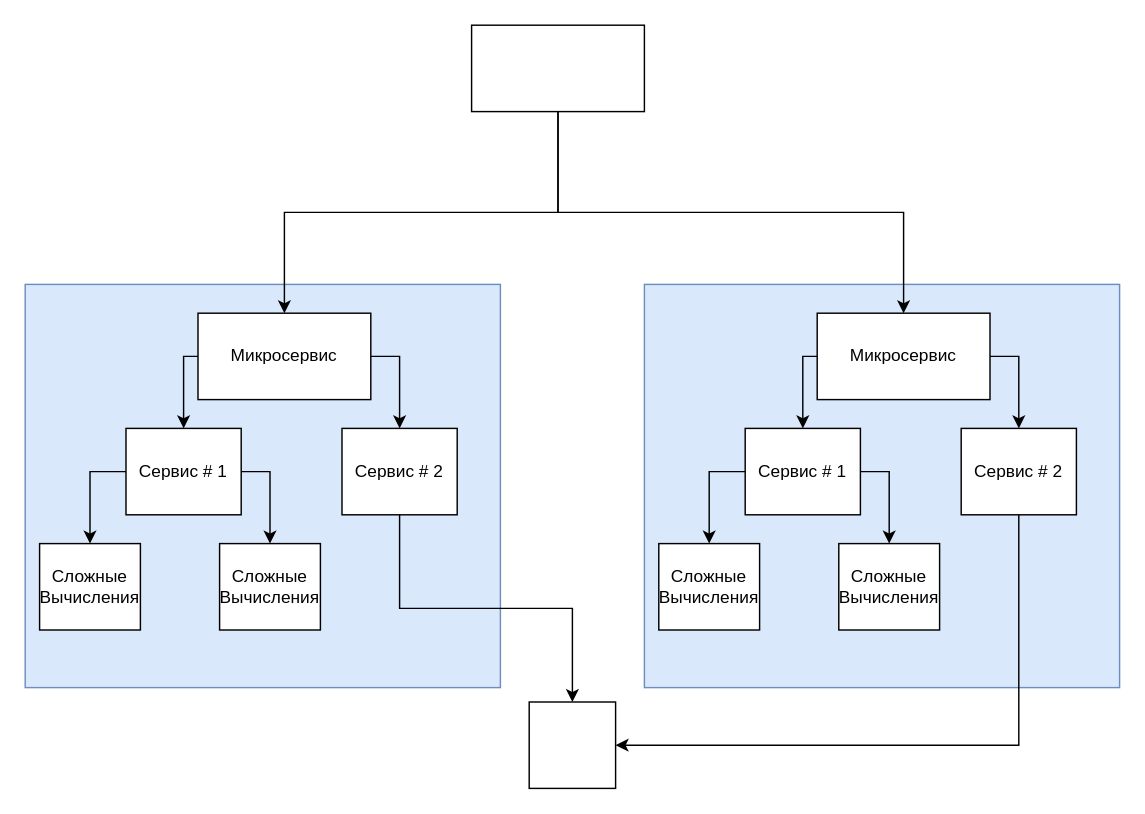
Image size: 1145x814. Some labels were removed from this diagram. Each missing label, with the box of its shape:
API Gateway: (470, 24, 644, 112)
БД: (528, 701, 616, 788)
